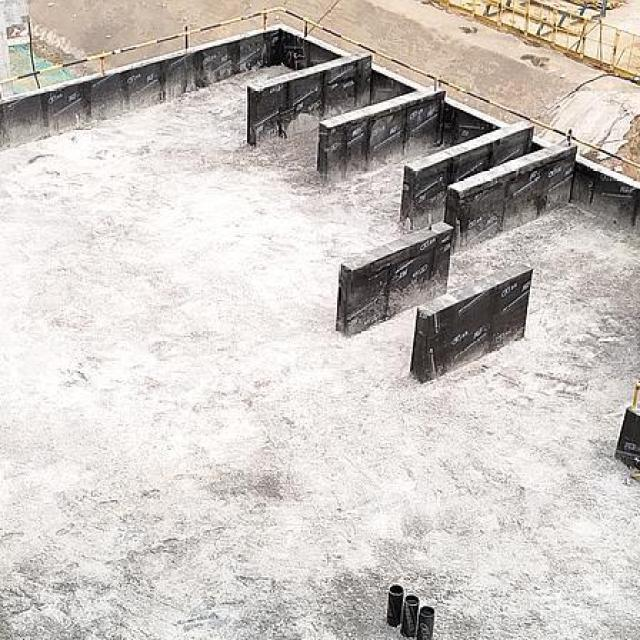edge_guardrail: (0, 5, 640, 169)
